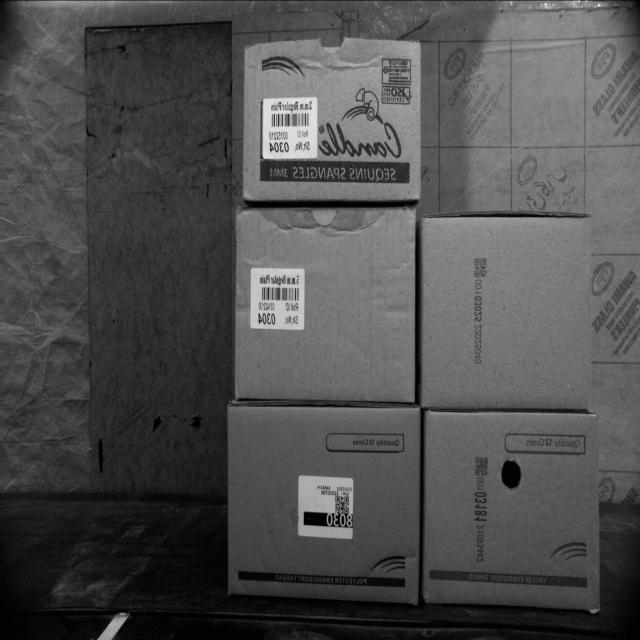cardboxes: (227, 408, 420, 600), (232, 206, 414, 397), (422, 414, 600, 607), (421, 214, 591, 407), (240, 37, 421, 204)
